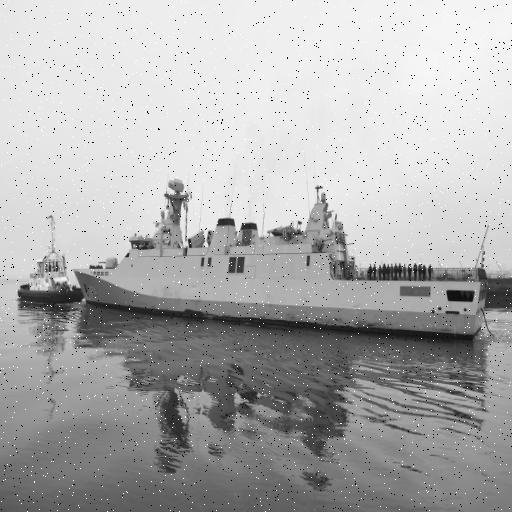Fragata: (69, 130, 493, 352)
